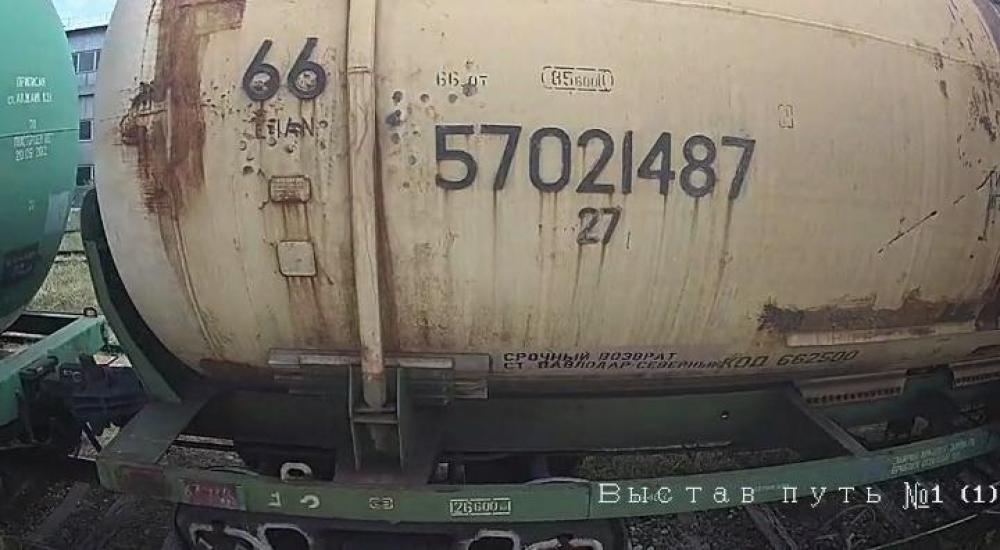Wagon-number: (432, 118, 760, 204)
